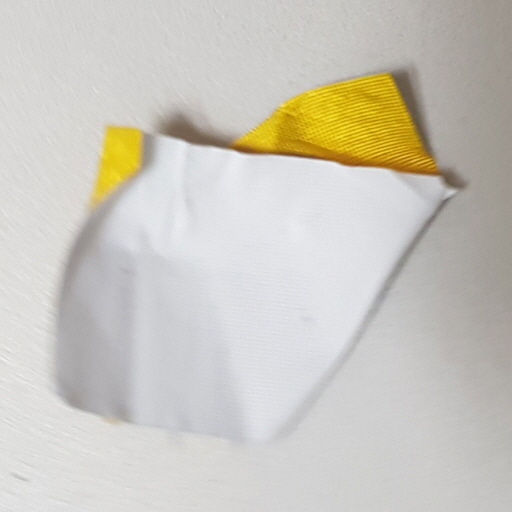Paper_3: (43, 53, 458, 460)
